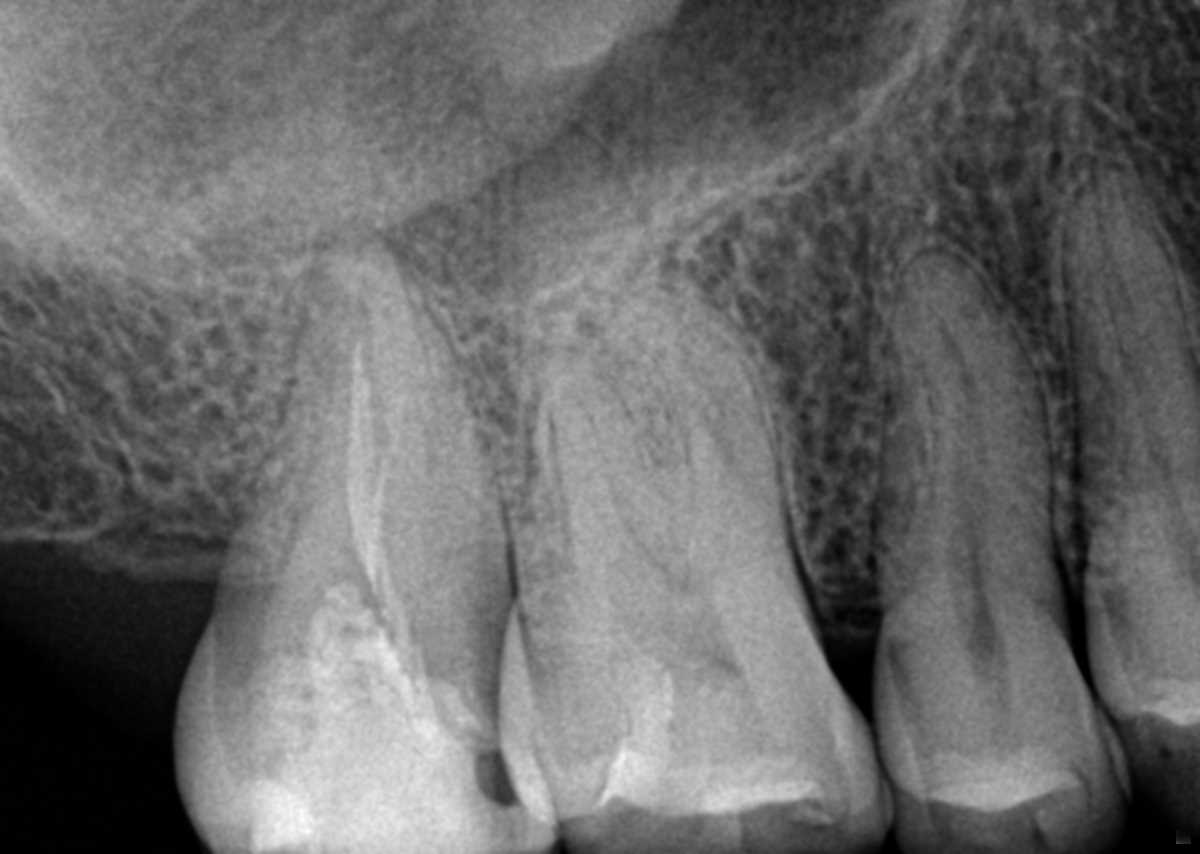Distal Canal: (564, 391, 661, 569)
Distal Root: (551, 374, 674, 553)
Main Canal: (1092, 180, 1194, 542), (940, 326, 990, 604)
Main Root: (220, 220, 520, 619), (879, 249, 1060, 610), (1057, 162, 1200, 545)
Mesial Root: (620, 286, 798, 568)
Palatal Root: (506, 119, 777, 577)
Root Canal Filling: (343, 343, 379, 592)
